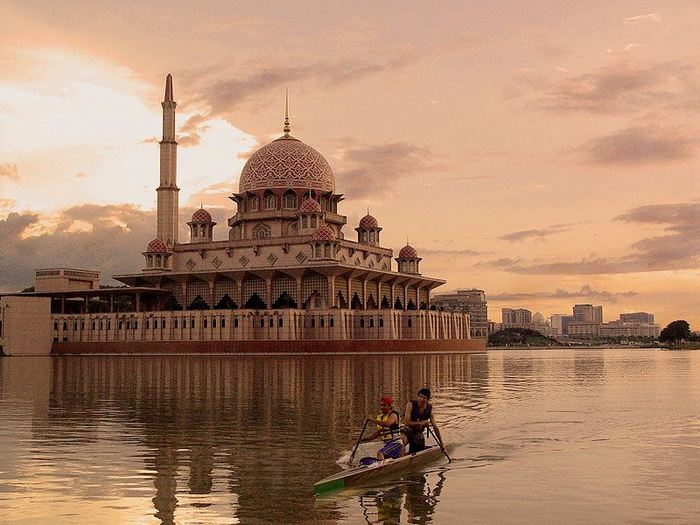Mosque: (75, 73, 476, 346)
